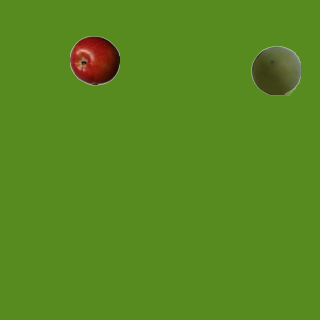Apple Braeburn: (69, 35, 119, 85)
Grape White 4: (250, 45, 300, 95)
